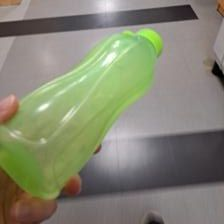bottle: (0, 28, 165, 201)
